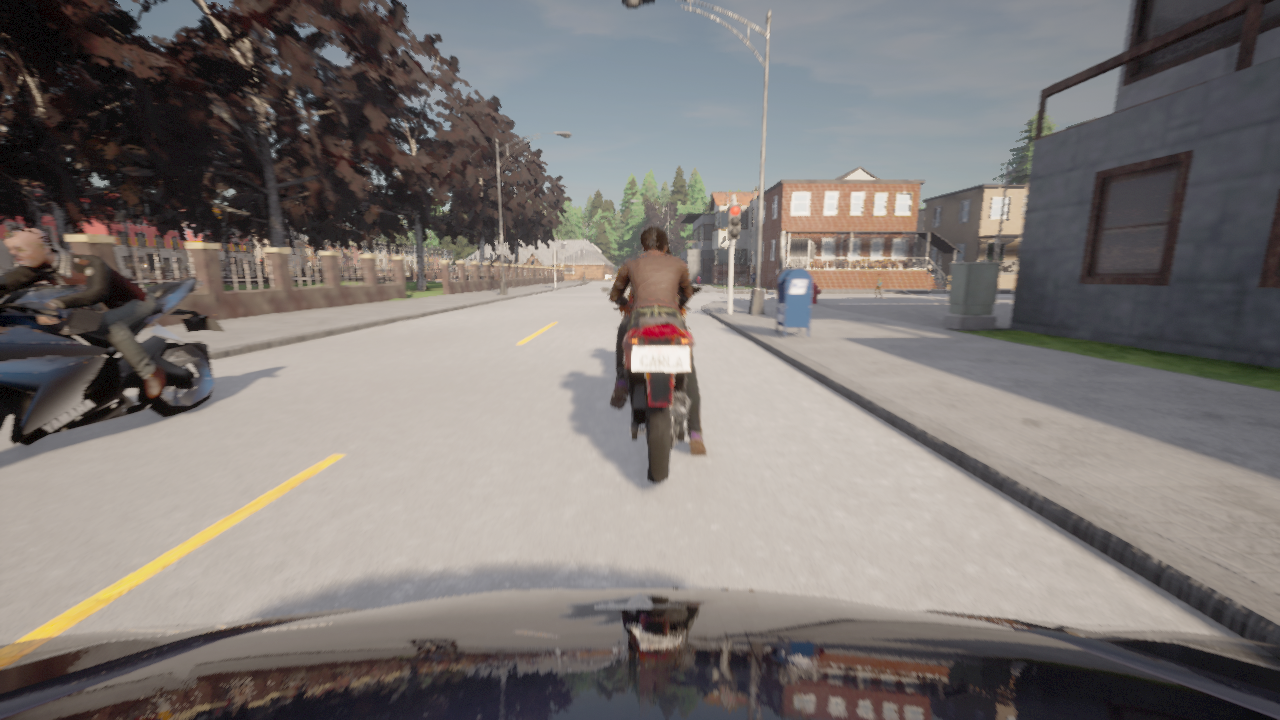cyclist: (0, 588, 1279, 719), (0, 276, 225, 446), (601, 287, 701, 484), (628, 282, 693, 320), (452, 278, 453, 279)
pedestrian: (874, 273, 882, 298), (776, 267, 778, 291)
